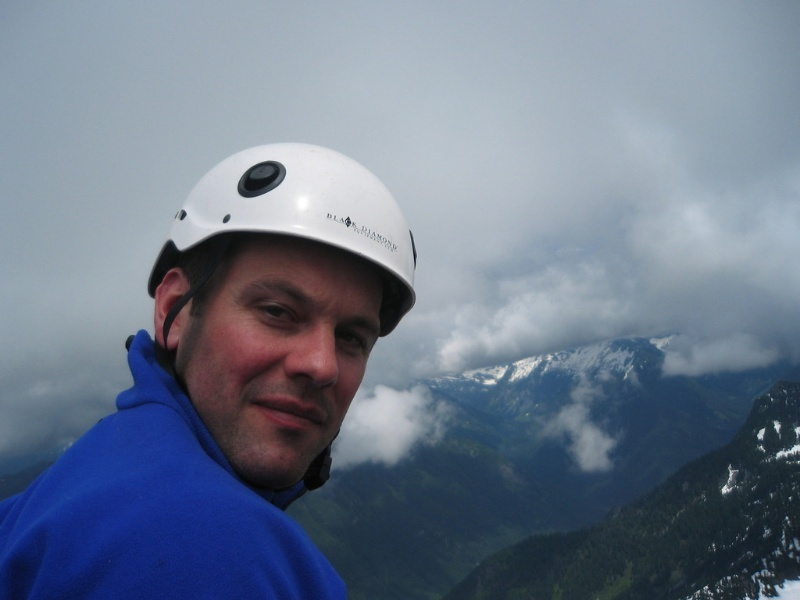Baret: (161, 144, 416, 329)
